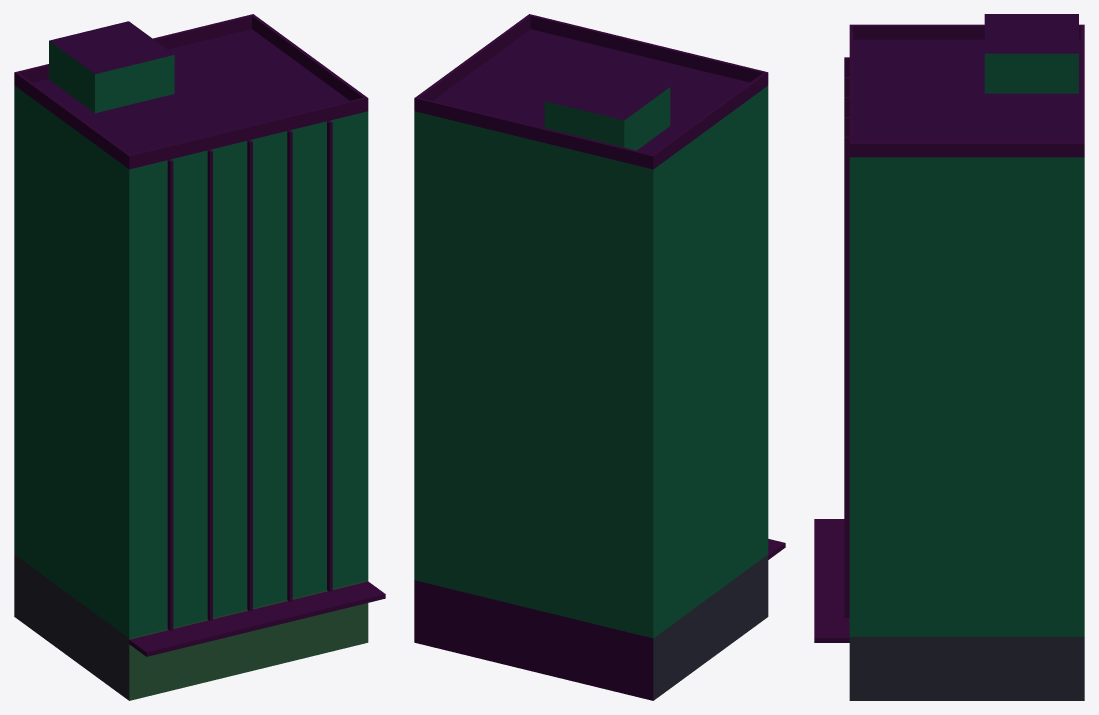
File: fringe_c.glb
The picture shows the model from 3 angles, left to right: view 1: azimuth 30°, elevation 25°; view 2: azimuth 150°, elevation 25°; view 3: azimuth 270°, elevation 25°; orthographic projection. The views are drawn at different scales.
Parts seen in each view (by area): view 1: fringe_c; view 2: fringe_c; view 3: fringe_c.
Boxes of the visible parts, <box> form: fringe_c: <box>14,14,385,700</box>; fringe_c: <box>414,14,785,700</box>; fringe_c: <box>814,14,1084,700</box>.
Bounding box in the file's own units: 19.2 × 43.8 × 18.4.
